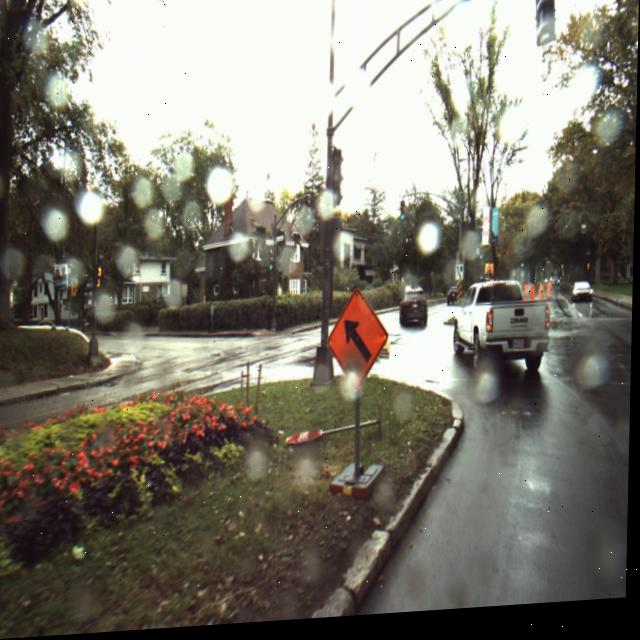car: (455, 283, 553, 377), (402, 291, 429, 333), (573, 288, 596, 310)
trafficLight: (535, 0, 556, 55), (331, 152, 344, 210), (95, 262, 106, 295)
trafficLight-Green: (400, 204, 407, 229), (269, 252, 275, 275)
